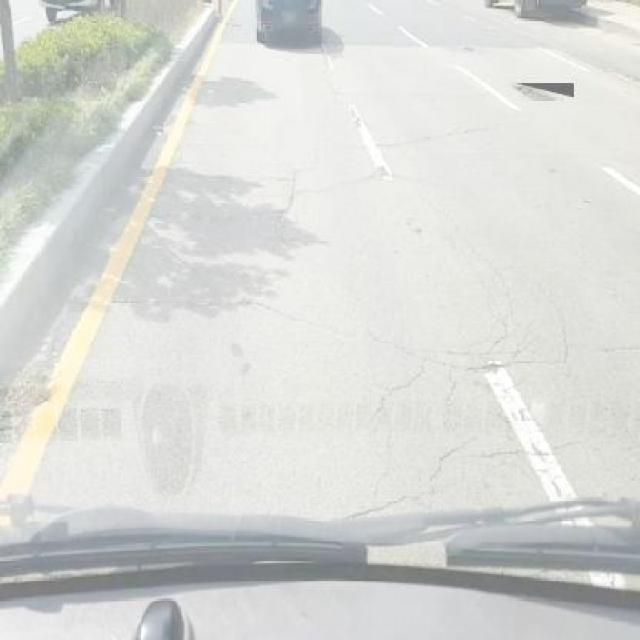Manhole: (514, 83, 574, 100)
